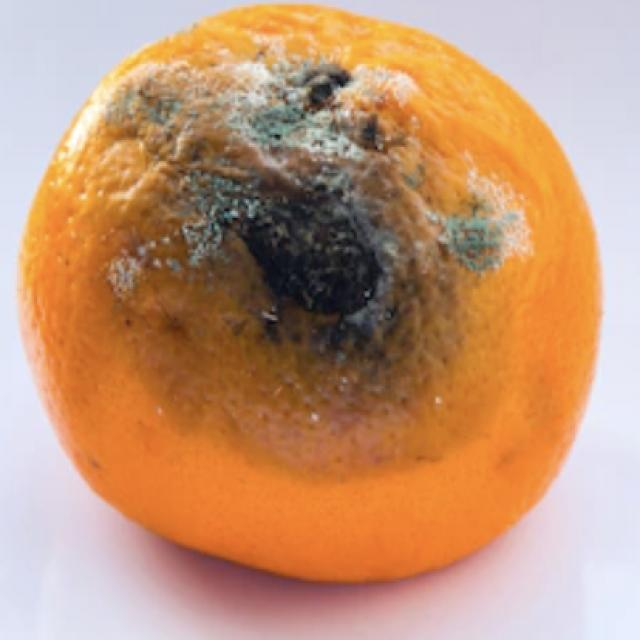rotten-orange: (28, 11, 603, 584)
